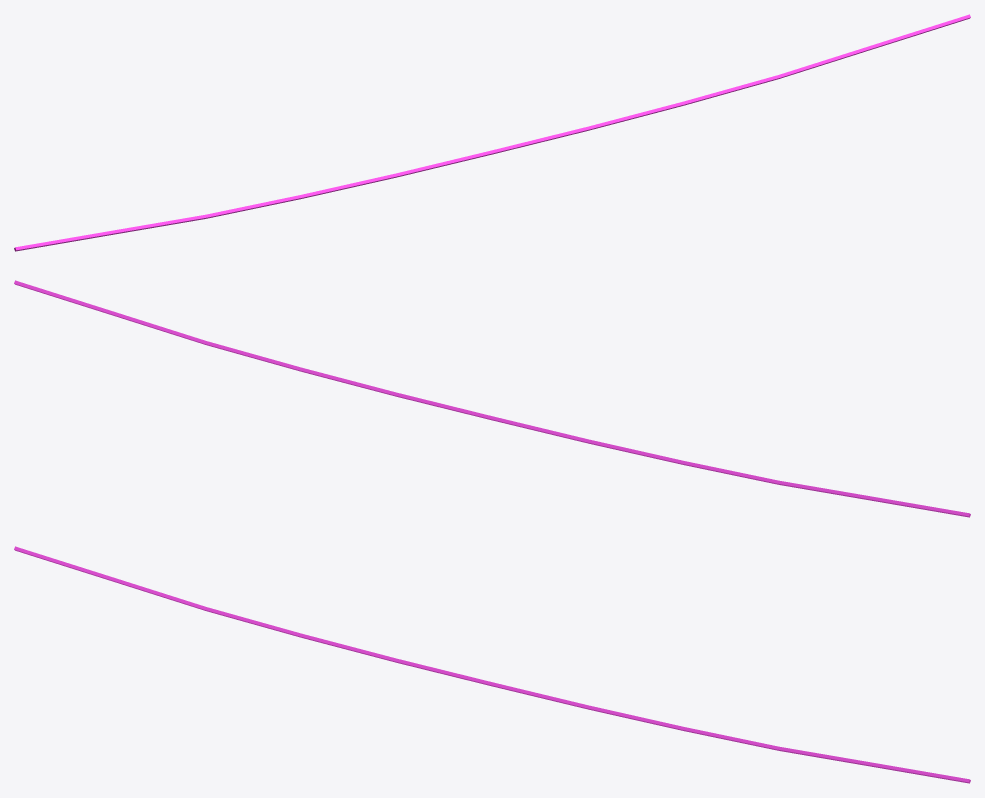
The model's file is SM_Rope_7M_Fantasy.fbx.
The picture shows the model from 3 angles, top to bottom: view 1: azimuth 30°, elevation 25°; view 2: azimuth 150°, elevation 25°; view 3: azimuth 330°, elevation 25°; orthographic projection.
Parts seen in each view (by area): view 1: SM_Rope_7M_Fantasy; view 2: SM_Rope_7M_Fantasy; view 3: SM_Rope_7M_Fantasy.
Boxes of the visible parts, x1=… form: SM_Rope_7M_Fantasy: x1=14, y1=14, x2=970, y2=251; SM_Rope_7M_Fantasy: x1=14, y1=280, x2=970, y2=517; SM_Rope_7M_Fantasy: x1=14, y1=546, x2=970, y2=783.
Size of the model in its own units: 7 by 0.1657 by 0.03.
